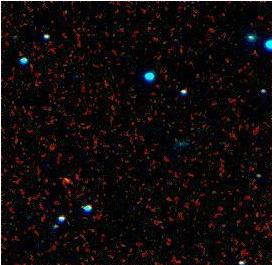star: (46, 161, 76, 191)
